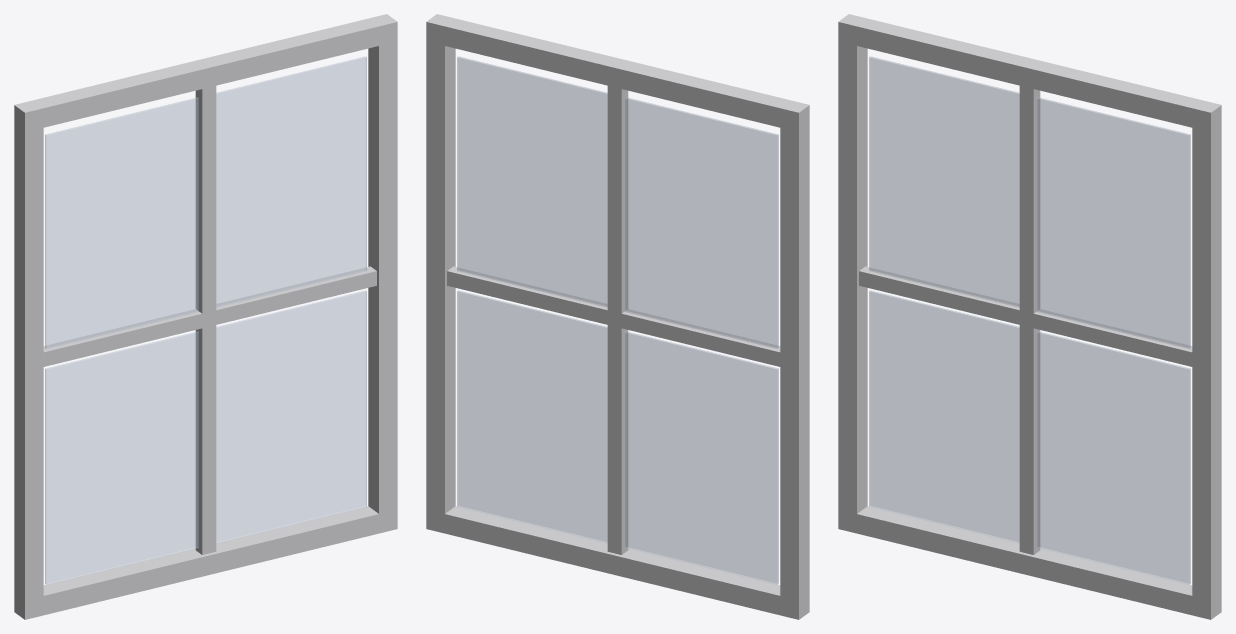
File: window.glb
3 renders of one model, left to right at view 1: azimuth 30°, elevation 25°; view 2: azimuth 150°, elevation 25°; view 3: azimuth 330°, elevation 25°, orthographic.
Visible parts, largest first — view 1: WinFrame_0; view 2: WinFrame_0; view 3: WinFrame_0.
Boxes of the visible parts, bbox=[...] form: WinFrame_0: bbox=[14, 14, 397, 619]; WinFrame_0: bbox=[426, 14, 809, 619]; WinFrame_0: bbox=[838, 14, 1221, 619].
Size of the model in its own units: 3.33 by 4.33 by 0.1667.
